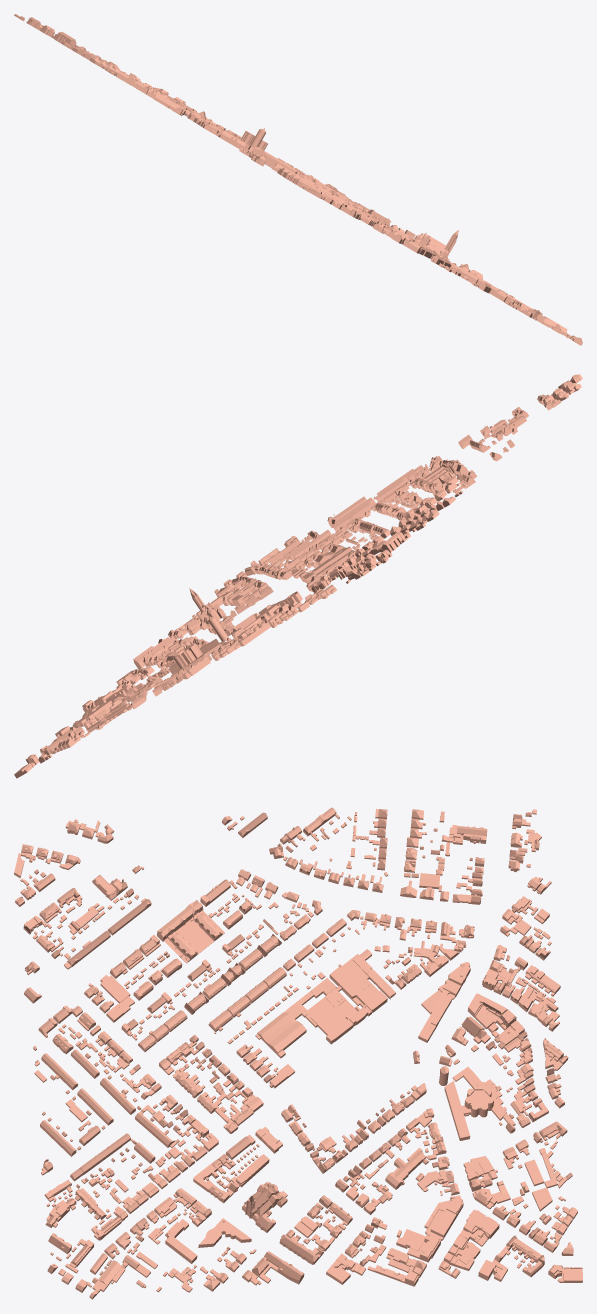
3 renders of one model, top to bottom at view 1: azimuth 30°, elevation 25°; view 2: azimuth 150°, elevation 25°; view 3: azimuth 270°, elevation 25°, orthographic. The views are drawn at different scales.
Bounding box in the file's own units: 526 × 384 × 648.
